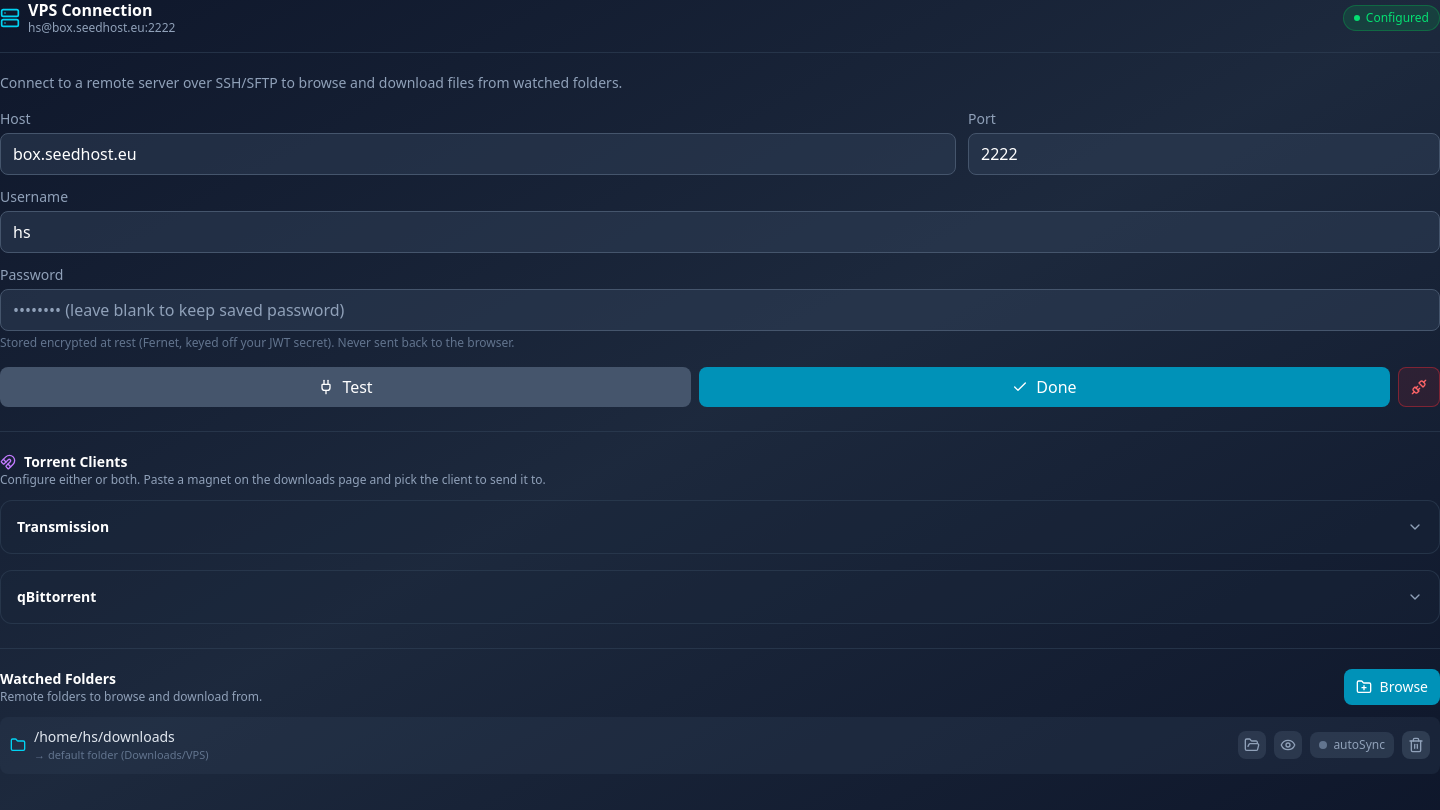
Scenario: VpsSettings - removing a watched folder (delete impact) › one hidden download reads in the singular, and cancel leaves it watched
Step 1. Click the button titled "Remove folder" → (1416, 745), box [1402, 731, 1430, 759]
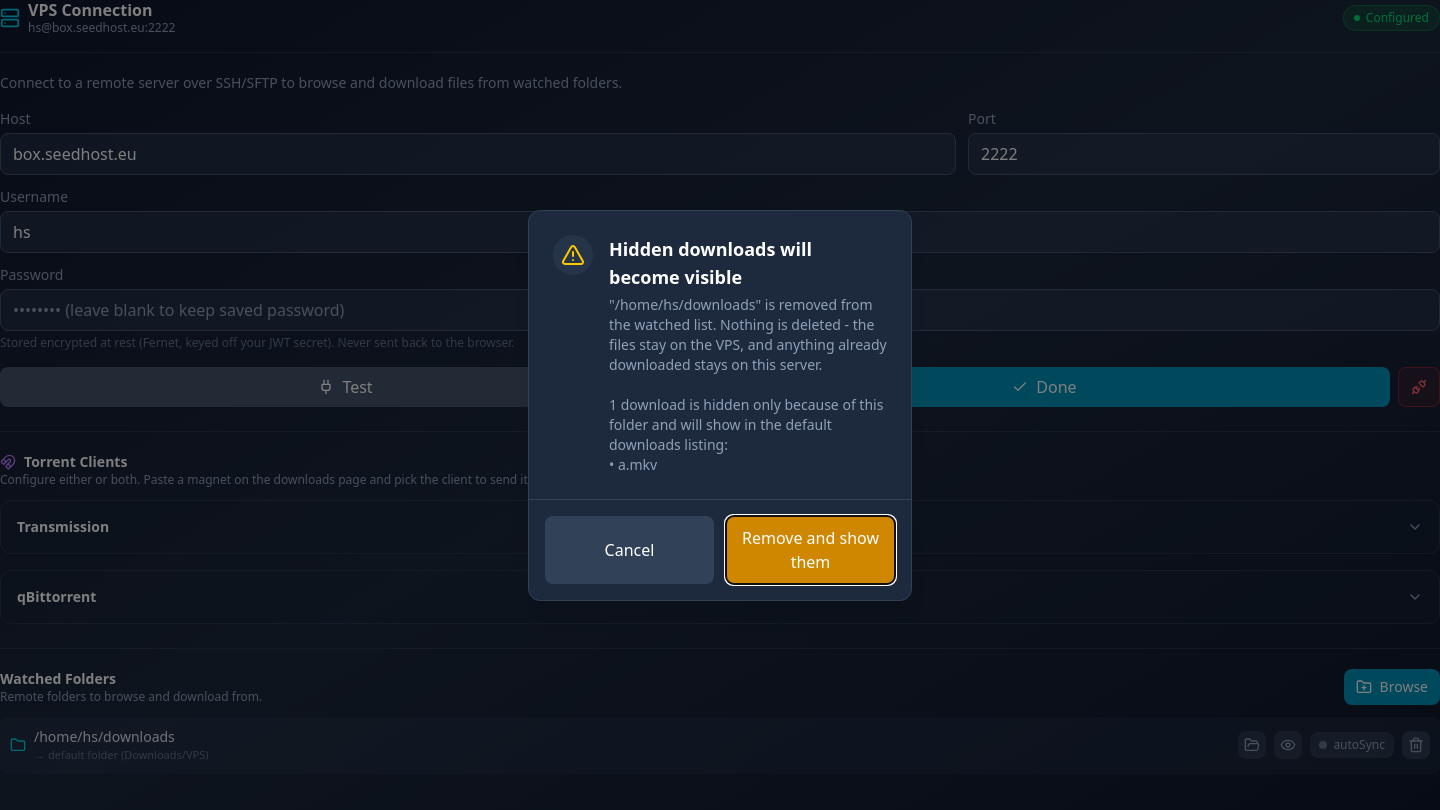
Expected: the text "1 download is hidden only because of this folder" is shown, [609, 294, 887, 474]
Step 2. Click the button "Cancel" → (630, 550), box [545, 516, 714, 584]
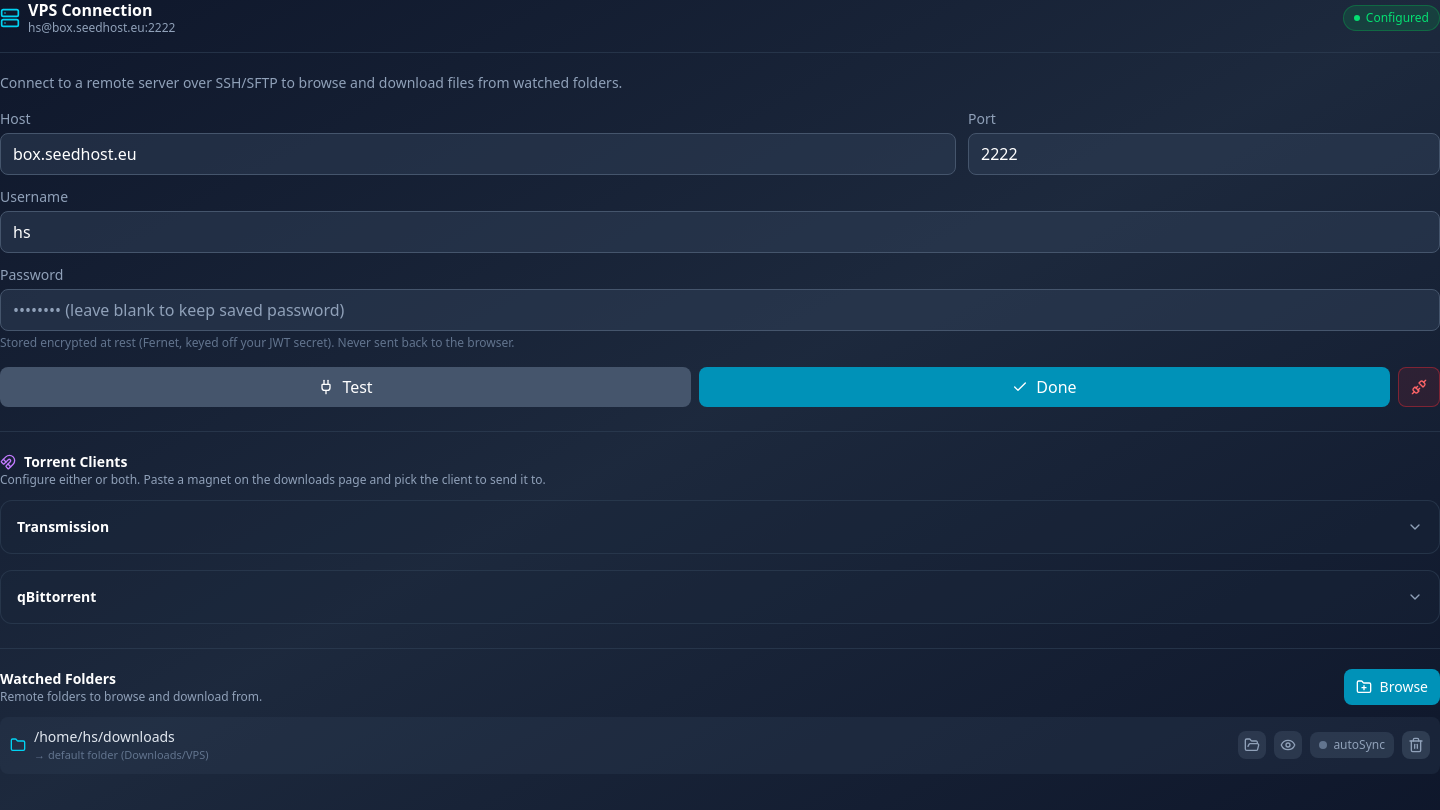
Expected: the heading "Hidden downloads will become visible" is gone
